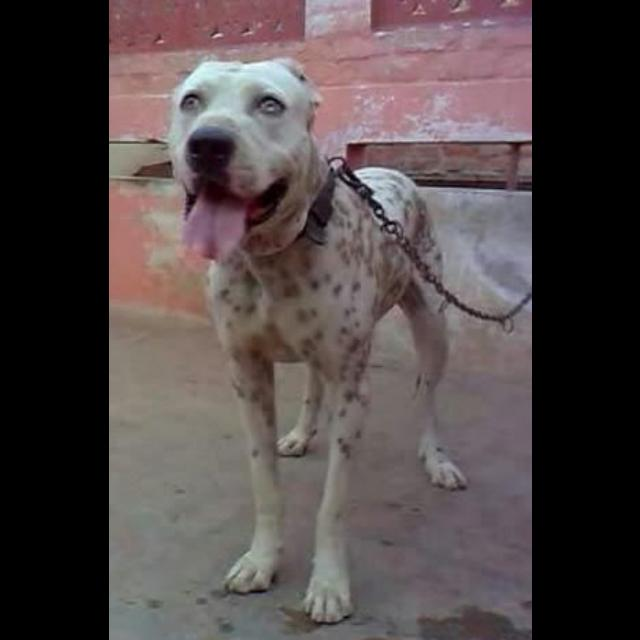other_dog_breed: (168, 61, 470, 628)
